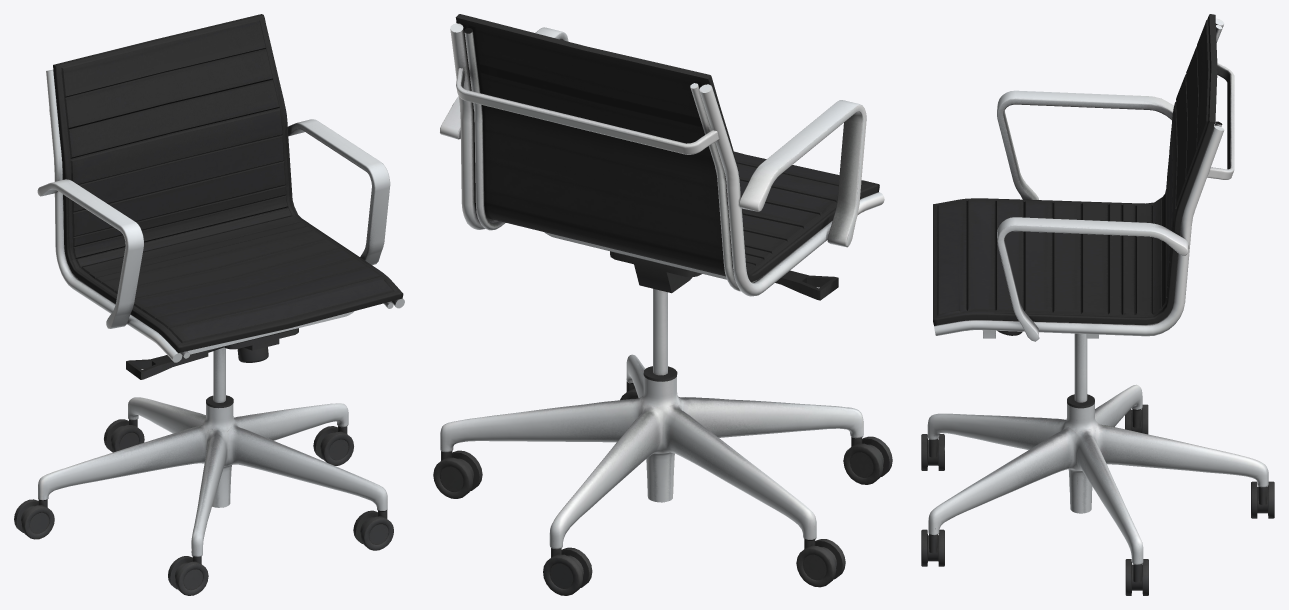
The model's file is cuneo_schwarz_black_chrome_plated.glb.
3 renders of one model, left to right at view 1: azimuth 30°, elevation 25°; view 2: azimuth 150°, elevation 25°; view 3: azimuth 270°, elevation 25°, orthographic. The views are drawn at different scales.
Parts seen in each view (by area): view 1: cuneo-black; view 2: cuneo-black; view 3: cuneo-black.
Boxes of the visible parts, x1,y1,x2,y2 form: cuneo-black: (14,14,404,595); cuneo-black: (433,14,892,595); cuneo-black: (921,14,1274,595).
Size of the model in its own units: 0.6505 by 0.8105 by 0.5705.
Materials: 1 (1 with a texture image).
